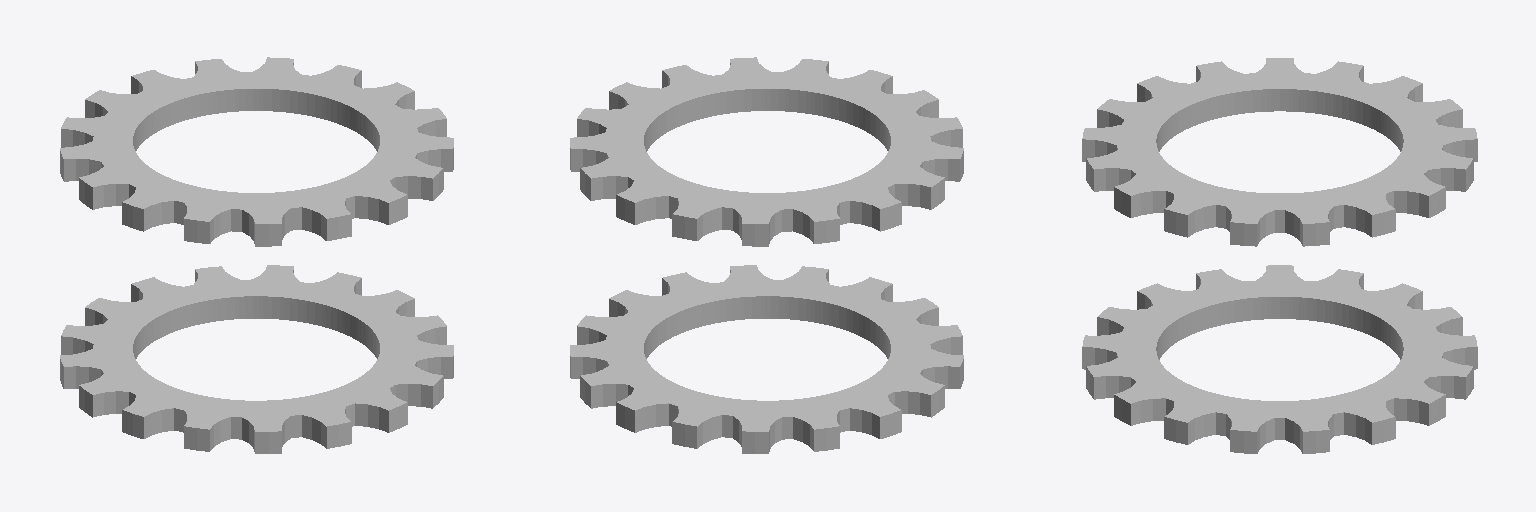
File: SprocketBand_L.obj
3 renders of one model, left to right at view 1: azimuth 30°, elevation 25°; view 2: azimuth 150°, elevation 25°; view 3: azimuth 270°, elevation 25°, orthographic.
Size of the model in its own units: 0.4783 by 0.308 by 0.4797.